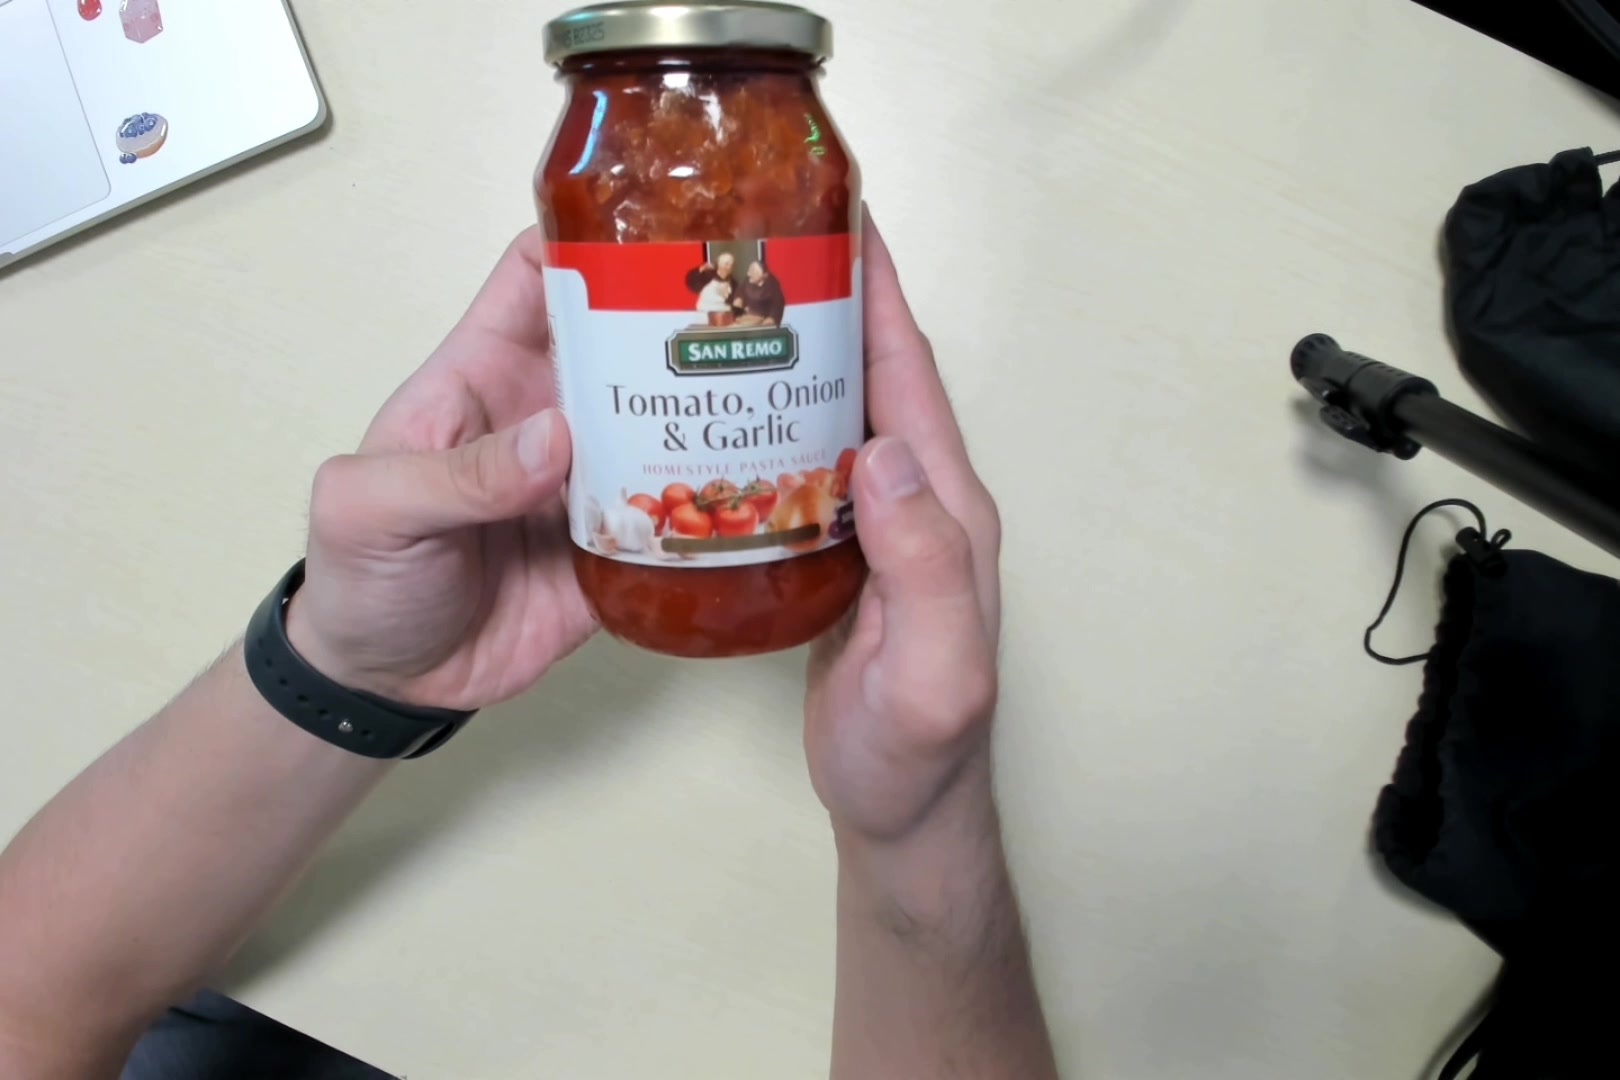PastaSauce_500-599g_NonHalal_NonHealthy: (535, 2, 867, 635)
